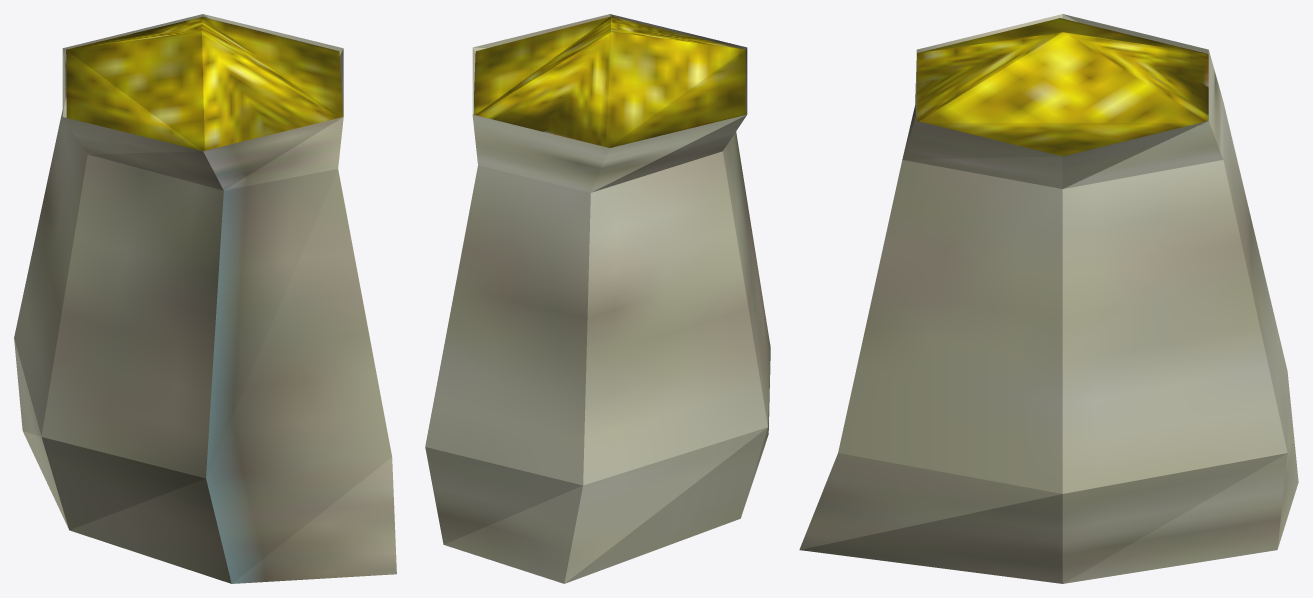
Rendered from Sack_Offen [VollMehl]_1740.glb.
The picture shows the model from 3 angles, left to right: view 1: azimuth 30°, elevation 25°; view 2: azimuth 150°, elevation 25°; view 3: azimuth 270°, elevation 25°; orthographic projection. The views are drawn at different scales.
Visible parts, largest first — view 1: pSphereShape33, pPlaneShape178; view 2: pSphereShape33, pPlaneShape178; view 3: pSphereShape33, pPlaneShape178.
Part boxes in pixels (<box>): pSphereShape33: <box>14,14,396,583</box>; pPlaneShape178: <box>66,16,342,150</box>; pSphereShape33: <box>425,14,770,583</box>; pPlaneShape178: <box>473,16,745,147</box>; pSphereShape33: <box>799,14,1298,583</box>; pPlaneShape178: <box>916,18,1208,156</box>.
Bounding box in the file's own units: 0.0962 × 0.1324 × 0.124.
Materials: 2 (2 with a texture image).
